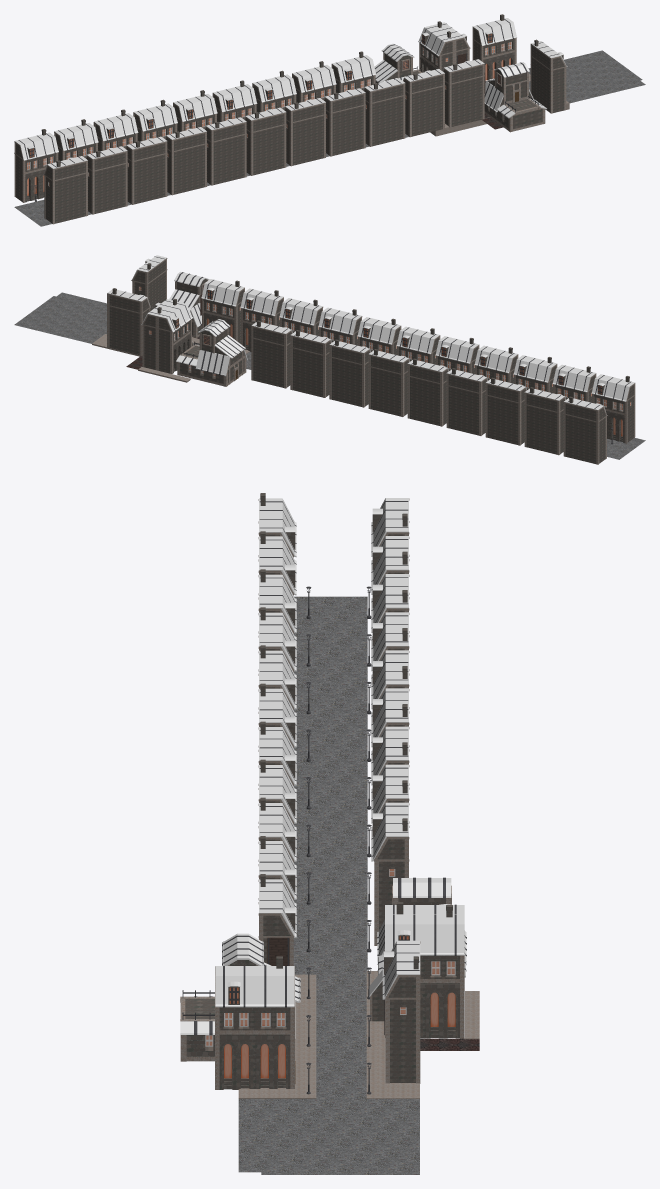
Rendered from TestMergedStreet03.fbx.
3 views of the same model, one above another, from view 1: azimuth 30°, elevation 25°; view 2: azimuth 150°, elevation 25°; view 3: azimuth 270°, elevation 25° (orthographic). The views are drawn at different scales.
Visible parts, largest first — view 1: Plane.011; view 2: Plane.011; view 3: Plane.011.
Part boxes in pixels (<box>): Plane.011: <box>14,14,645,226</box>; Plane.011: <box>14,255,645,464</box>; Plane.011: <box>180,493,479,1174</box>.
Size of the model in its own units: 12141 by 1284 by 2657.
Materials: 10 (9 with a texture image).
